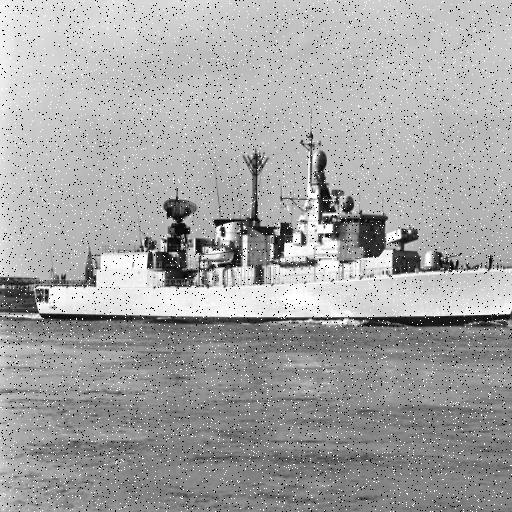Fragata: (28, 107, 512, 326)
